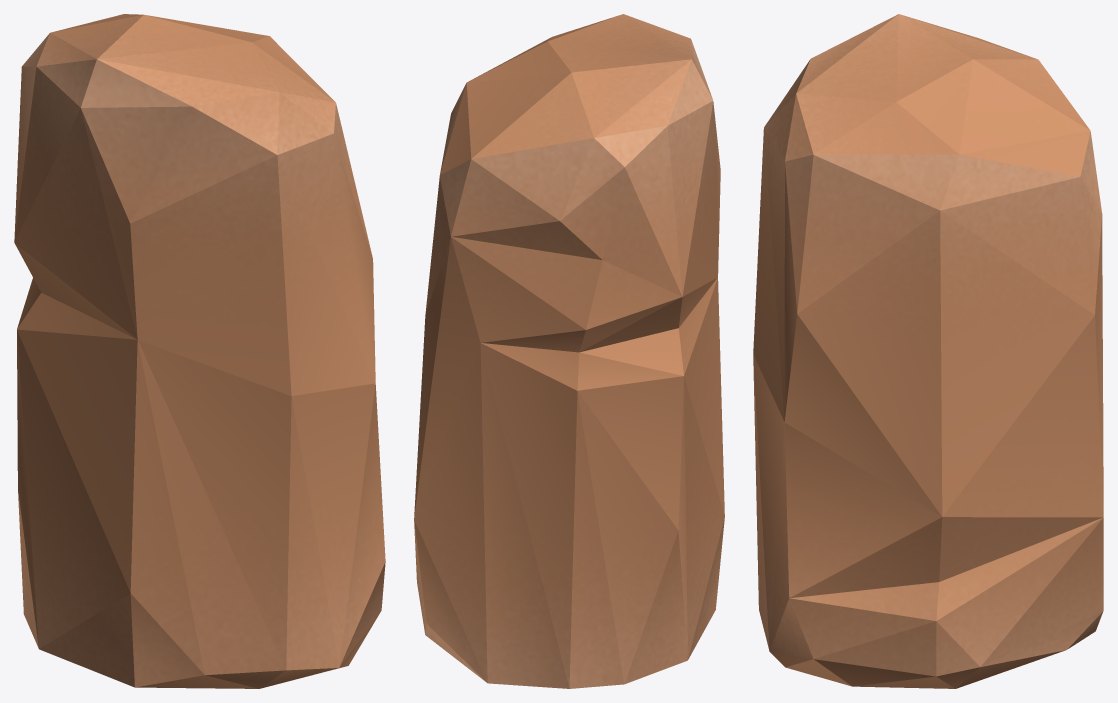
The picture shows the model from 3 angles, left to right: view 1: azimuth 30°, elevation 25°; view 2: azimuth 150°, elevation 25°; view 3: azimuth 270°, elevation 25°; orthographic projection. The views are drawn at different scales.
Parts seen in each view (by area): view 1: rocks1_3; view 2: rocks1_3; view 3: rocks1_3.
Boxes of the visible parts, left/top/right/bottom form: rocks1_3: left=14, top=14, right=385, bottom=688; rocks1_3: left=414, top=14, right=724, bottom=688; rocks1_3: left=753, top=14, right=1103, bottom=688.
Size of the model in its own units: 239 by 470 by 263.
1 material, 1 textured.
